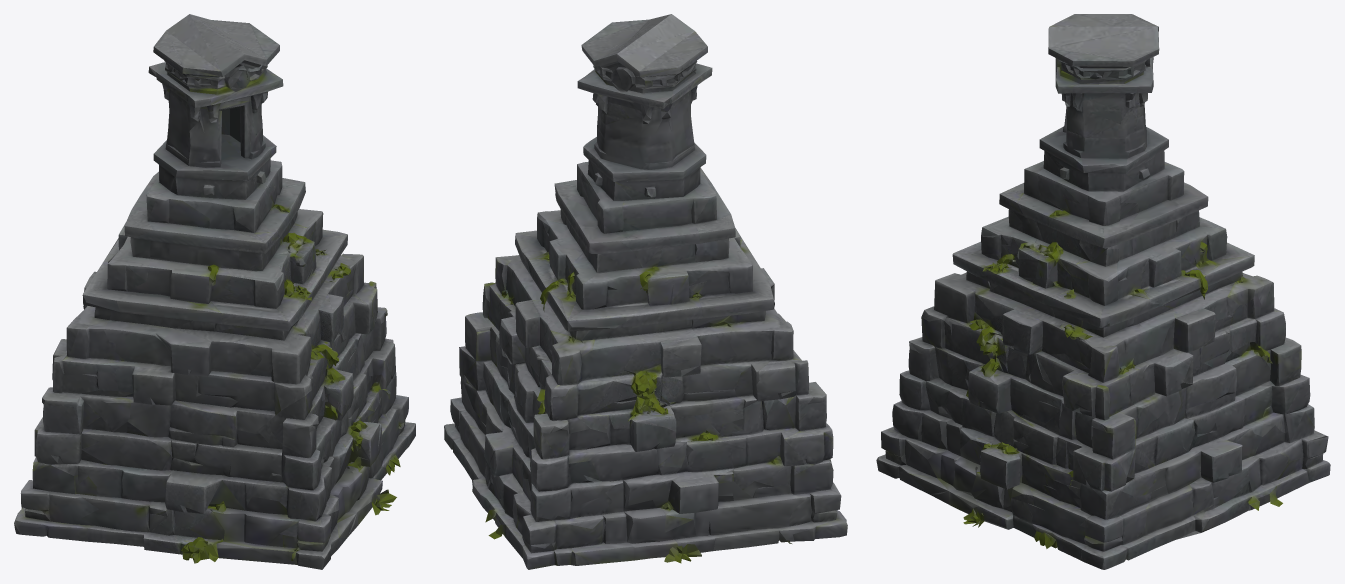
Rendered from scene_ruin_temple.glb.
The picture shows the model from 3 angles, left to right: view 1: azimuth 30°, elevation 25°; view 2: azimuth 150°, elevation 25°; view 3: azimuth 270°, elevation 25°; orthographic projection.
Bounding box in the file's own units: 1.77 × 1.9 × 1.74.
Materials: 1 (1 with a texture image).
